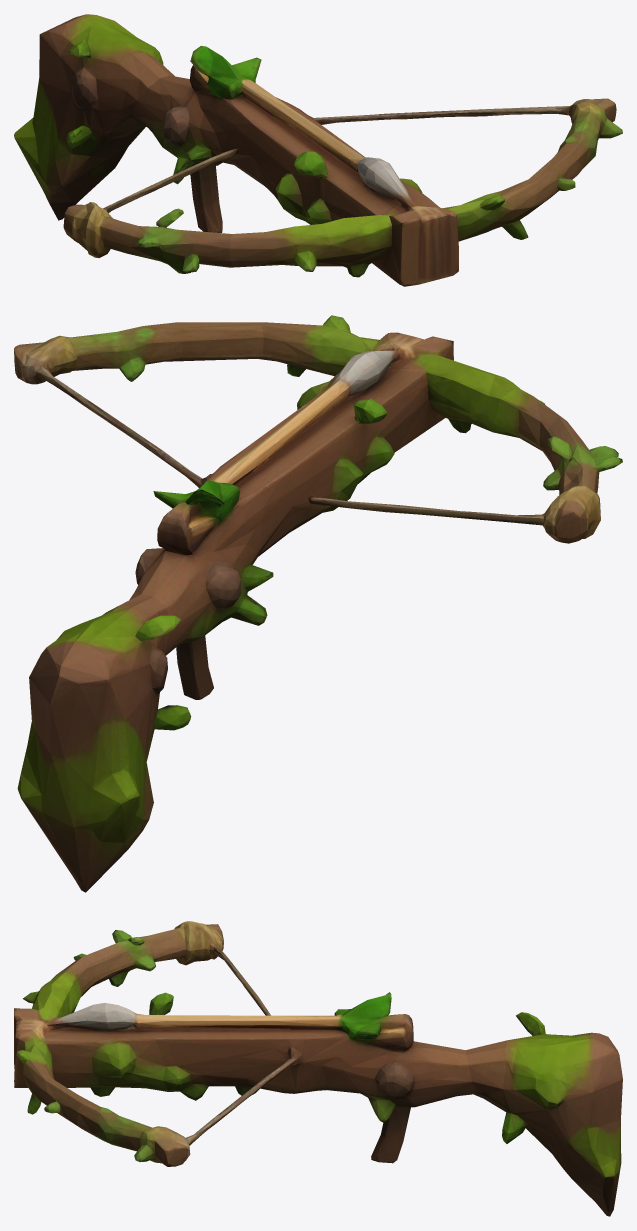
Rendered from ecorce_arbalete.glb.
3 views of the same model, one above another, from view 1: azimuth 30°, elevation 25°; view 2: azimuth 150°, elevation 25°; view 3: azimuth 270°, elevation 25° (orthographic). The views are drawn at different scales.
Visible parts, largest first — view 1: geometry_0; view 2: geometry_0; view 3: geometry_0.
Part boxes in pixels (<box>): geometry_0: <box>14,14,622,286</box>; geometry_0: <box>14,315,622,892</box>; geometry_0: <box>14,921,622,1216</box>.
Size of the model in its own units: 0.8866 by 0.4188 by 0.9975.
1 material, 1 textured.
